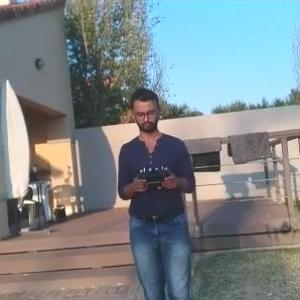follow: (113, 82, 202, 299)
